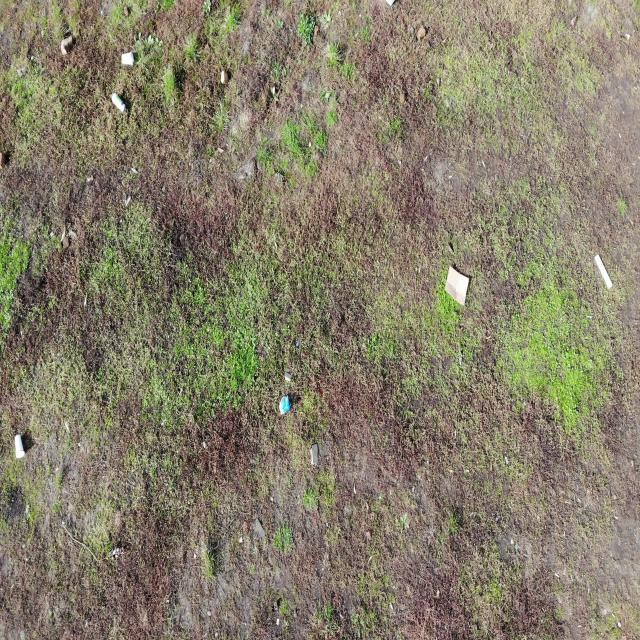rubbish: (445, 265, 470, 308), (593, 254, 613, 288), (110, 92, 128, 116), (14, 433, 26, 460), (279, 394, 290, 417), (121, 52, 135, 66)
